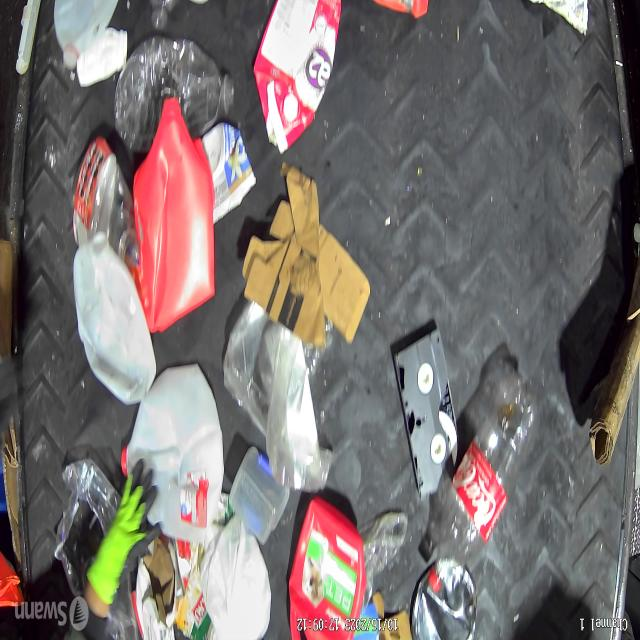can: (413, 568, 480, 640)
milk_jug: (128, 371, 224, 540), (73, 252, 156, 406)
non_white_jug: (136, 101, 215, 333), (256, 2, 330, 153), (290, 494, 366, 638)
plastic_bottle: (424, 384, 532, 592)
